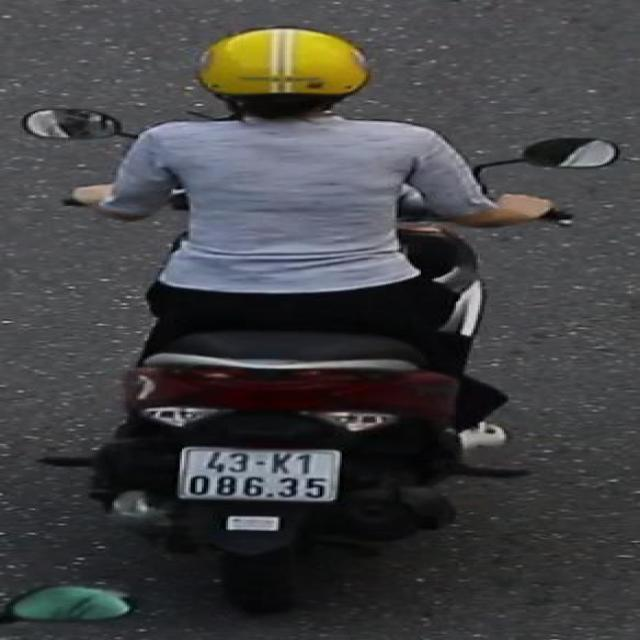LP: (172, 442, 352, 508)
helmet: (191, 22, 377, 130)
